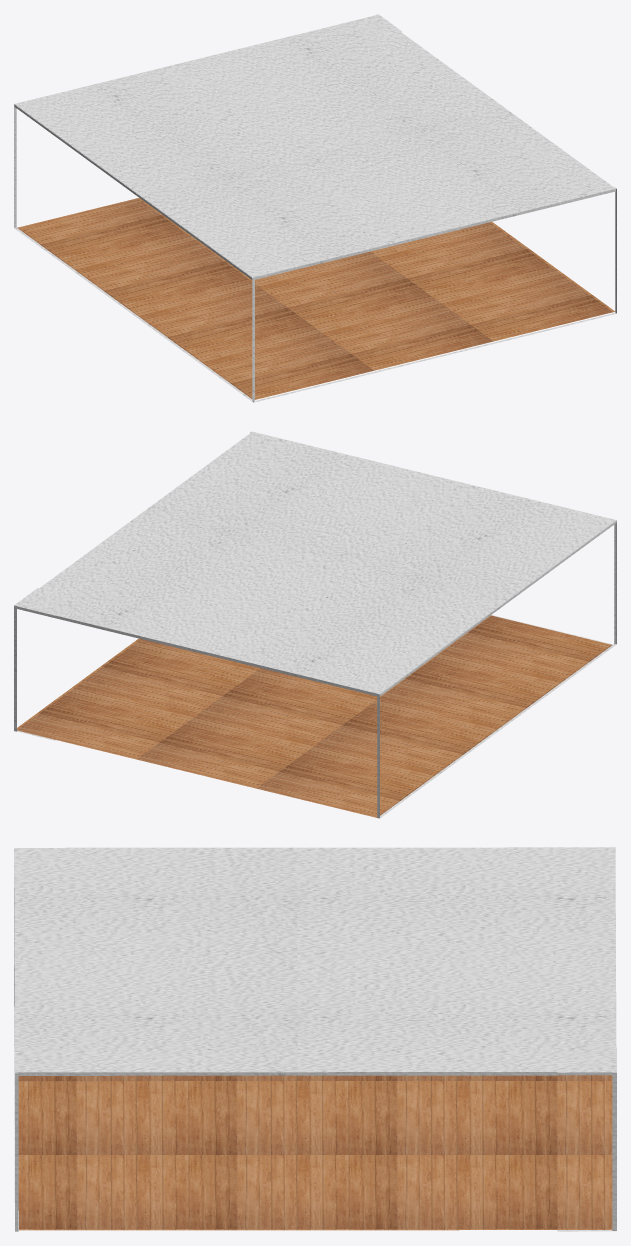
File: gym.obj
3 renders of one model, top to bottom at view 1: azimuth 30°, elevation 25°; view 2: azimuth 150°, elevation 25°; view 3: azimuth 270°, elevation 25°, orthographic. The views are drawn at different scales.
Size of the model in its own units: 7.6 by 2.49 by 8.57.
